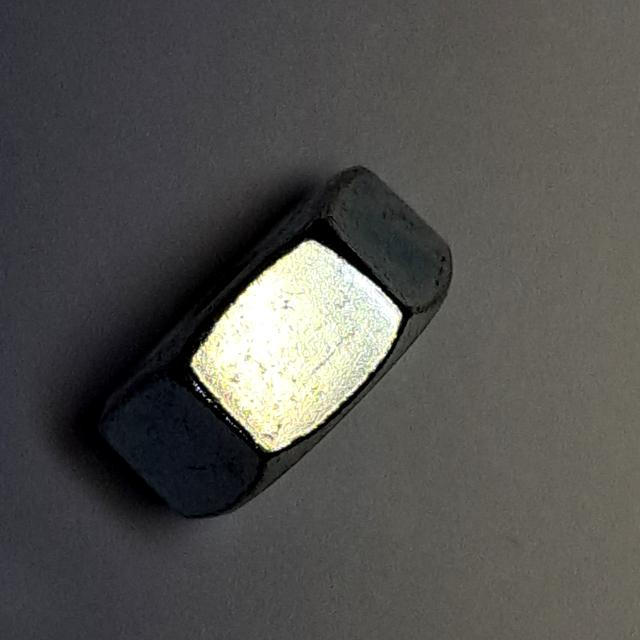Side_Excellent: (85, 156, 483, 536)
